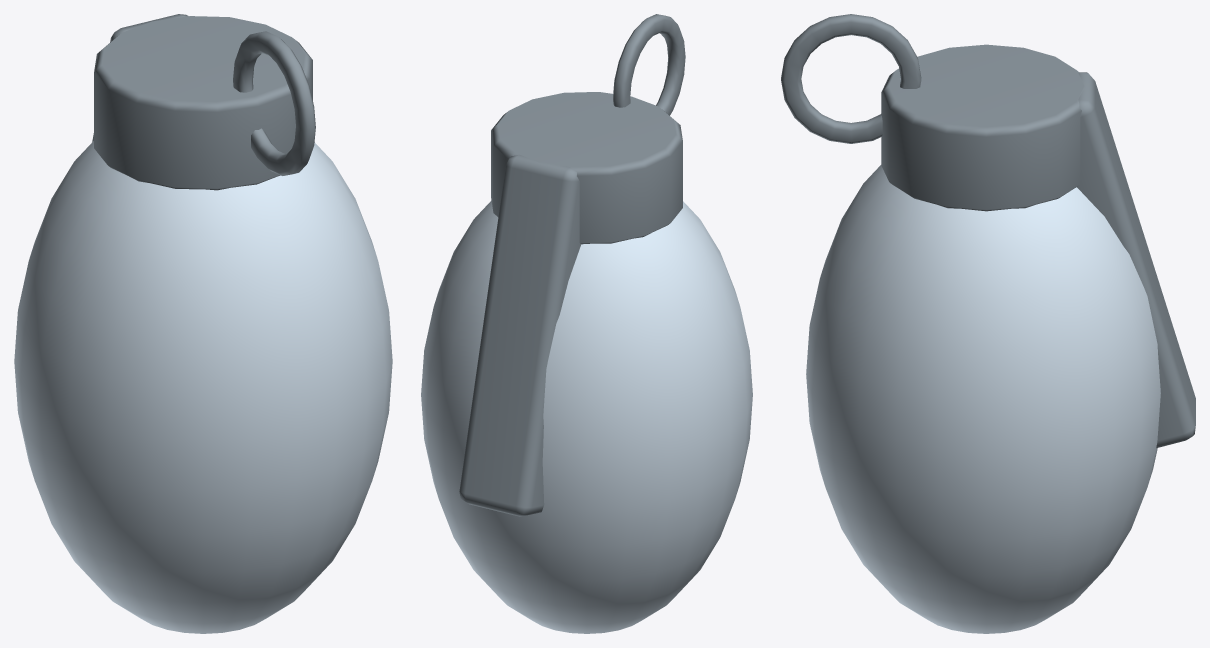
File: m3_grenade.glb
3 renders of one model, left to right at view 1: azimuth 30°, elevation 25°; view 2: azimuth 150°, elevation 25°; view 3: azimuth 270°, elevation 25°, orthographic. The views are drawn at different scales.
Parts seen in each view (by area): view 1: m3_grenade_ir_blue, m3_grenade_ir_steel; view 2: m3_grenade_ir_blue, m3_grenade_ir_steel; view 3: m3_grenade_ir_blue, m3_grenade_ir_steel.
Part boxes in pixels (left/top/right/bottom): m3_grenade_ir_blue: left=14, top=141, right=392, bottom=633; m3_grenade_ir_steel: left=92, top=14, right=315, bottom=190; m3_grenade_ir_blue: left=421, top=200, right=752, bottom=633; m3_grenade_ir_steel: left=459, top=14, right=685, bottom=516; m3_grenade_ir_blue: left=806, top=165, right=1160, bottom=633; m3_grenade_ir_steel: left=781, top=14, right=1195, bottom=448.
Bounding box in the file's own units: 0.072 × 0.134 × 0.0828.
